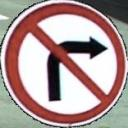NoVirarDireita: (6, 2, 124, 124)
